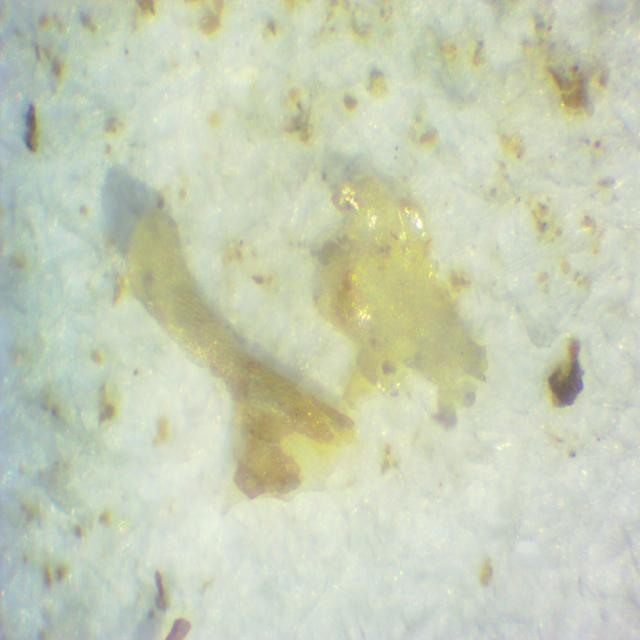microplastic: (123, 210, 356, 503), (313, 170, 490, 426)
